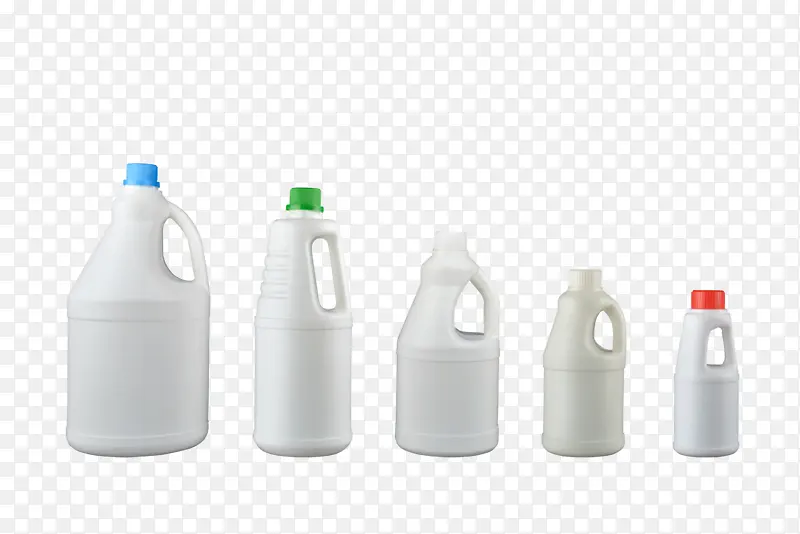normal_waste: (66, 165, 209, 455), (253, 188, 352, 456), (396, 232, 498, 456), (543, 269, 625, 456), (674, 291, 738, 456)
